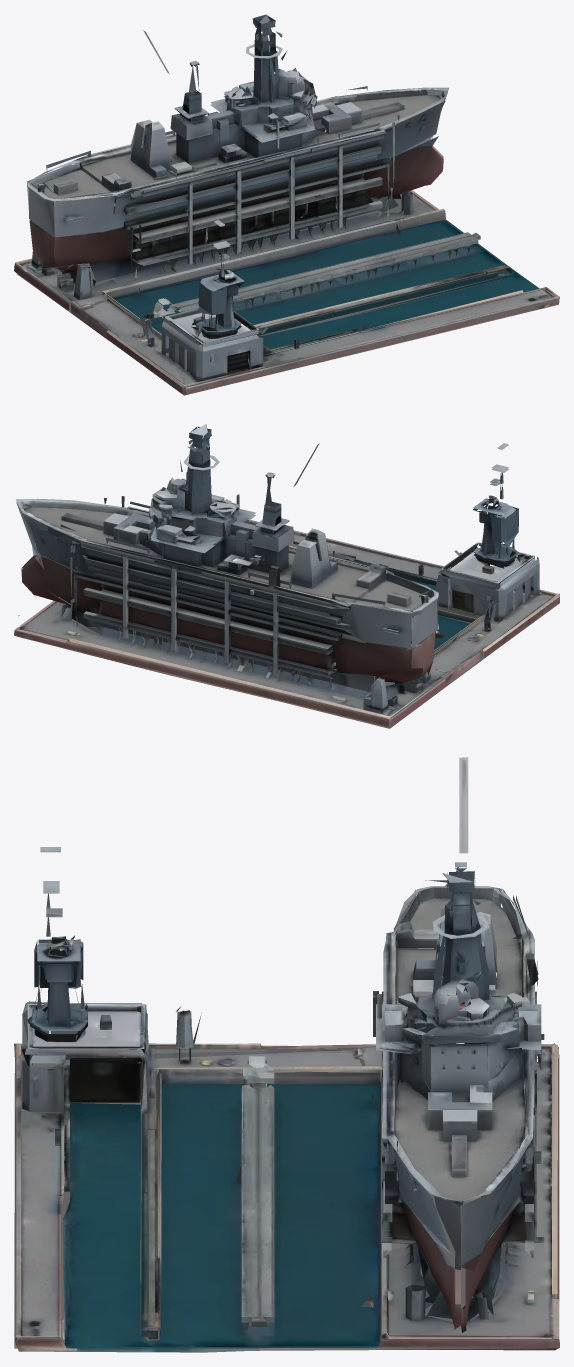
The model's file is drydock_LOD2.glb.
The picture shows the model from 3 angles, top to bottom: view 1: azimuth 30°, elevation 25°; view 2: azimuth 150°, elevation 25°; view 3: azimuth 270°, elevation 25°; orthographic projection. The views are drawn at different scales.
Visible parts, largest first — view 1: drydock_LOD2; view 2: drydock_LOD2; view 3: drydock_LOD2.
Part boxes in pixels (x1,y1,x2,y2): drydock_LOD2: (14, 14, 559, 395); drydock_LOD2: (14, 424, 559, 728); drydock_LOD2: (14, 757, 559, 1352).
Bounding box in the file's own units: 0.9959 × 0.5515 × 0.7144.
Materials: 1 (1 with a texture image).
